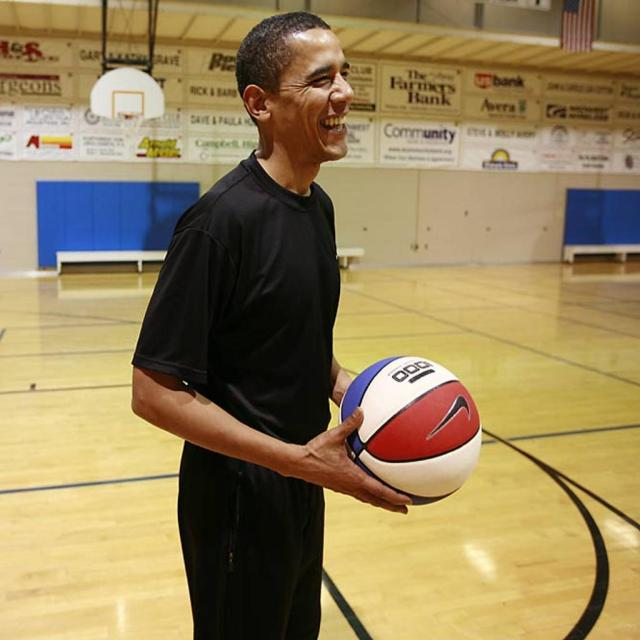Face: (279, 32, 365, 161)
